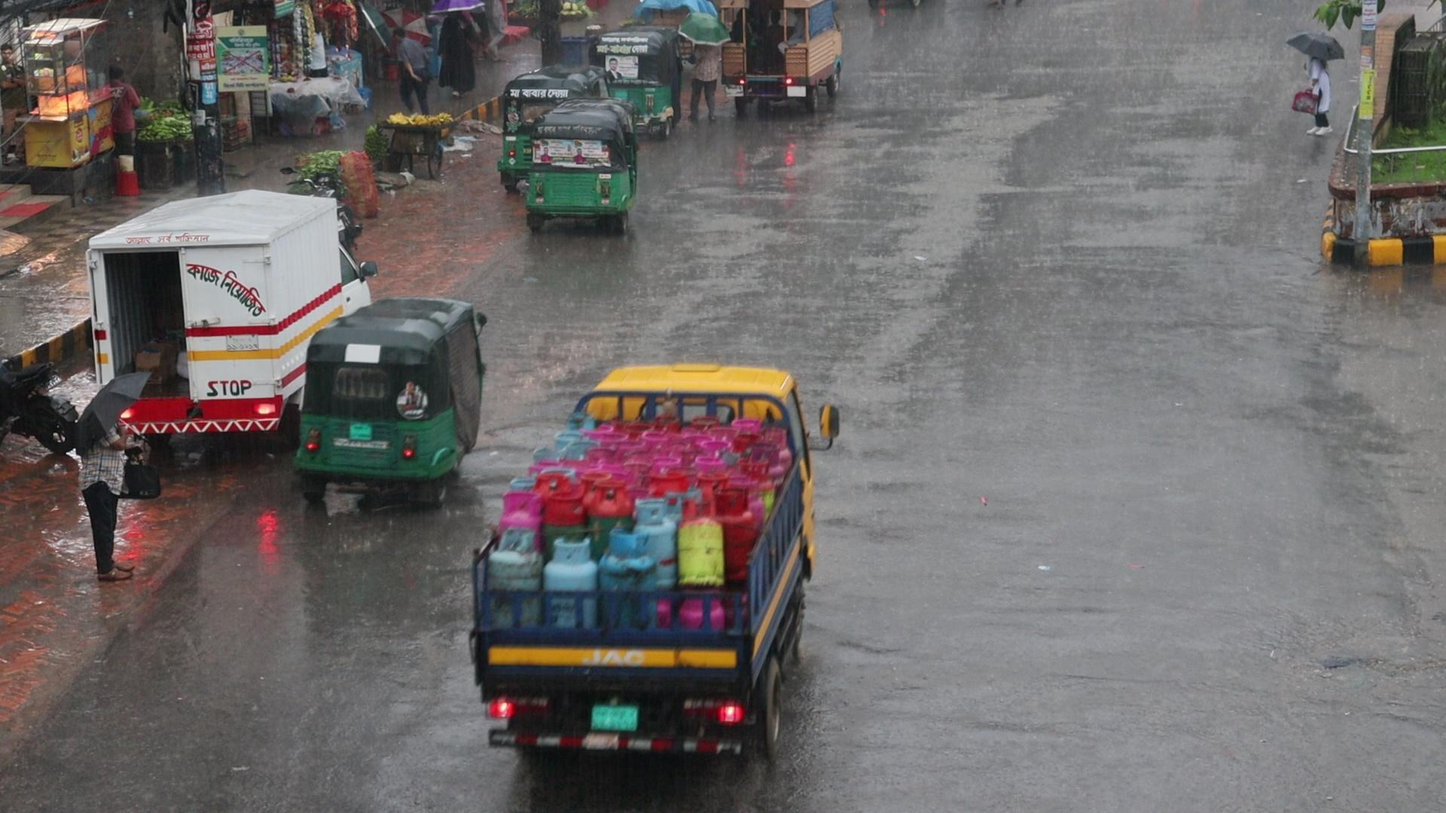Truck: (467, 358, 822, 773), (291, 296, 485, 505), (716, 0, 845, 113)
